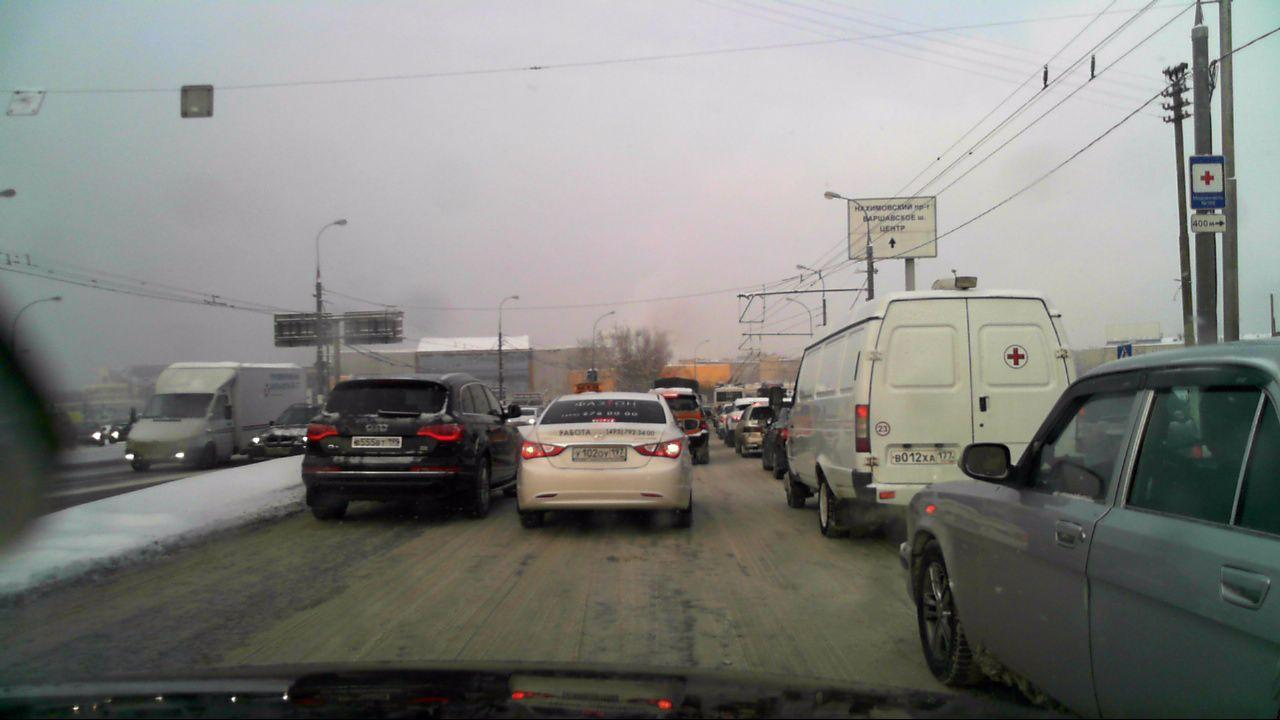6_10_1: (846, 197, 939, 260)
7_1: (1190, 156, 1228, 208)
8_1_4: (1191, 213, 1228, 233)
